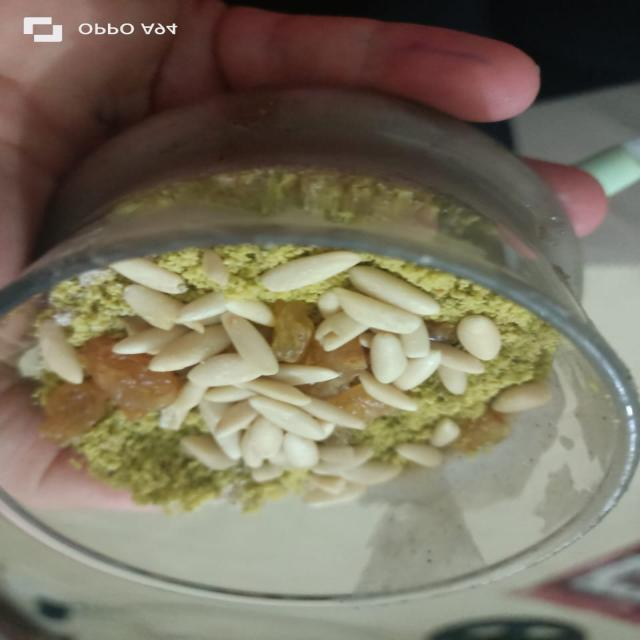asida-zkoukou: (0, 88, 627, 583)
